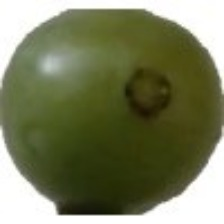grapes: (8, 9, 180, 185)
